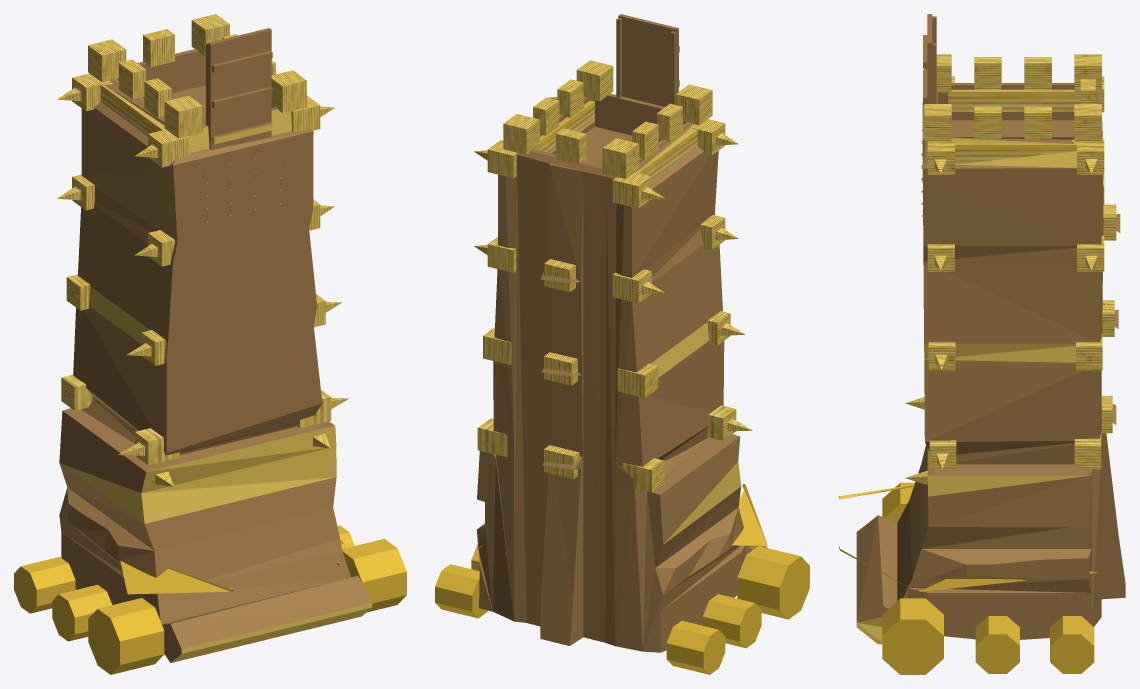
File: ae_siege_tower_open_large_royal_lod1.glb
3 renders of one model, left to right at view 1: azimuth 30°, elevation 25°; view 2: azimuth 150°, elevation 25°; view 3: azimuth 270°, elevation 25°, orthographic. The views are drawn at different scales.
Visible parts, largest first — view 1: siege_tower_open_large, drawbridge; view 2: siege_tower_open_large, drawbridge; view 3: siege_tower_open_large, drawbridge.
Boxes of the visible parts, x1=… form: siege_tower_open_large: x1=14, y1=14, x2=406, y2=674; drawbridge: x1=206, y1=28, x2=272, y2=150; siege_tower_open_large: x1=435, y1=60, x2=809, y2=674; drawbridge: x1=616, y1=14, x2=679, y2=106; siege_tower_open_large: x1=838, y1=54, x2=1125, y2=674; drawbridge: x1=923, y1=14, x2=936, y2=147.
Size of the model in its own units: 67.27 by 133 by 59.65.
4 materials, 3 textured.
